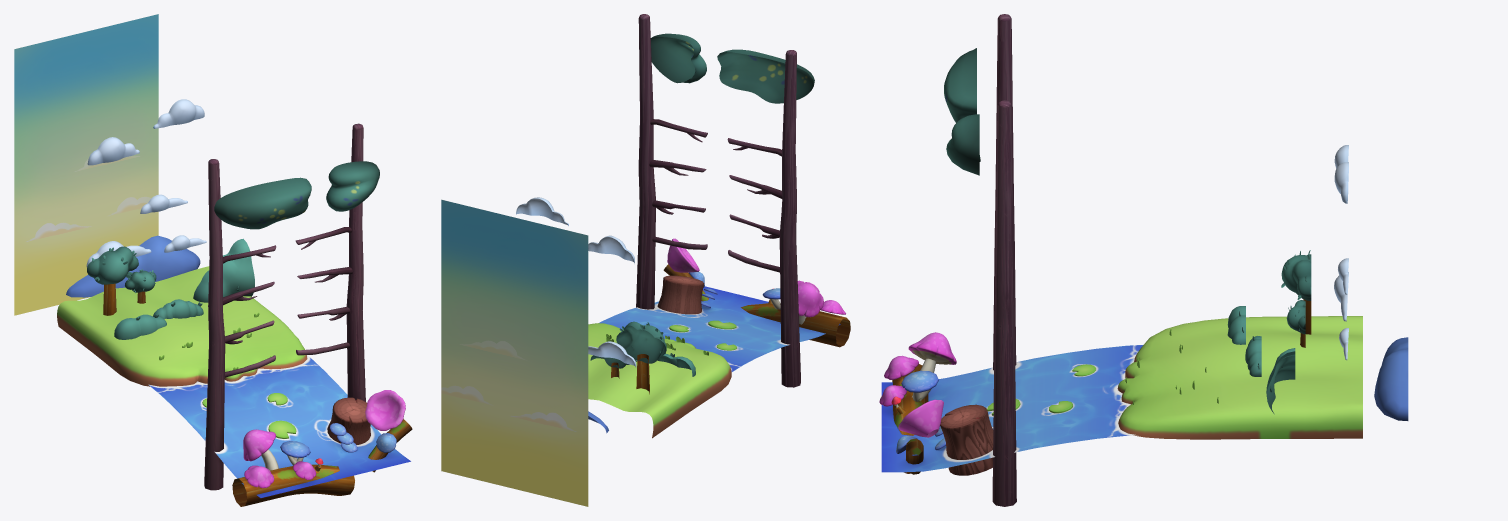
File: Map fn.fbx
3 views of the same model, side by side, from view 1: azimuth 30°, elevation 25°; view 2: azimuth 150°, elevation 25°; view 3: azimuth 270°, elevation 25° (orthographic). The views are drawn at different scales.
Parts seen in each view (by area): view 1: pCube5, Group19029, pPlane1, pCylinder379, Group25284, pCylinder363, pCylinder375, pCylinder380, Group24184, Group25288, Group44274, pCylinder364 (+1 smaller); view 2: pCube5, Group19029, pCylinder379, pPlane1, pCylinder363, pCylinder380, Group24184, Group25284, pCylinder364, pCylinder375, Group25288; view 3: Group19029, pPlane1, pCylinder363, pCylinder375, pCylinder380, Group25284, pCylinder379, Group44274, Group24184, pCylinder364, Group25288.
Boxes of the visible parts, <box> form: pCube5: <box>14,14,158,315</box>; Group19029: <box>57,266,307,386</box>; pPlane1: <box>148,355,410,497</box>; pCylinder379: <box>204,159,276,490</box>; Group25284: <box>87,238,254,339</box>; pCylinder363: <box>295,123,365,401</box>; pCylinder375: <box>243,390,405,488</box>; pCylinder380: <box>232,397,412,506</box>; Group24184: <box>214,177,311,229</box>; Group25288: <box>86,99,206,266</box>; Group44274: <box>66,235,200,297</box>; pCylinder364: <box>326,161,379,211</box>; pCube5: <box>441,199,588,506</box>; Group19029: <box>588,323,731,438</box>; pCylinder379: <box>727,50,800,387</box>; pPlane1: <box>599,286,840,371</box>; pCylinder363: <box>636,14,707,309</box>; pCylinder380: <box>657,264,850,347</box>; Group24184: <box>717,49,814,103</box>; Group25284: <box>590,321,695,394</box>; pCylinder364: <box>650,33,706,83</box>; pCylinder375: <box>667,238,845,324</box>; Group25288: <box>516,197,636,367</box>; Group19029: <box>1117,316,1362,439</box>; pPlane1: <box>881,345,1142,472</box>; pCylinder363: <box>992,100,1016,506</box>; pCylinder375: <box>879,332,956,453</box>; pCylinder380: <box>892,364,993,475</box>; Group25284: <box>1227,254,1311,414</box>; pCylinder379: <box>993,14,1016,370</box>; Group44274: <box>1374,337,1408,420</box>; Group24184: <box>944,48,976,122</box>; pCylinder364: <box>946,114,980,175</box>; Group25288: <box>1334,145,1348,360</box>.
Bounding box in the file's own units: 13.06 × 23.68 × 32.72.
Materials: 2 (2 with a texture image).
